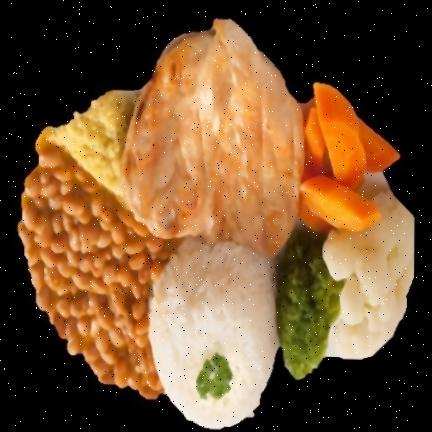beans: (19, 125, 181, 399)
broccoli: (277, 236, 344, 378)
carrot: (300, 84, 399, 232)
cauliflower: (324, 191, 414, 359)
chicken: (121, 20, 303, 256)
rice: (150, 239, 279, 429)
